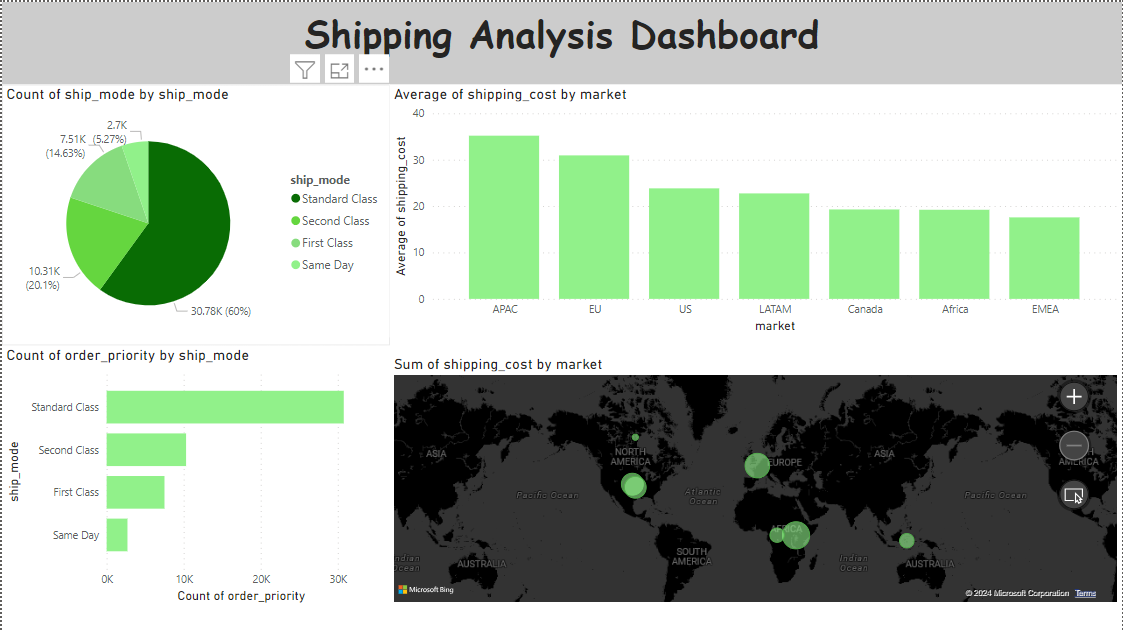

This screenshot's page, from the dashboard's own definition file:
{"tool":"powerbi","page":{"name":"Shipping Analysis Dashboard","canvas":[1280,720],"ordinal":2},"visuals":[{"type":"textbox","box":[0,0,1280,94.3],"z":0},{"type":"pieChart","fields":{"Y":["CountNonNull(SuperStoreOrders.ship_mode)"],"Category":["SuperStoreOrders.ship_mode"]},"box":[0,94.3,442.9,298.6],"z":1000},{"type":"barChart","fields":{"Category":["SuperStoreOrders.ship_mode"],"Y":["CountNonNull(SuperStoreOrders.order_priority)"]},"box":[0,393,443,299],"z":2000},{"type":"map","fields":{"Category":["SuperStoreOrders.market"],"Size":["Sum(SuperStoreOrders.shipping_cost)"]},"box":[442.9,402.9,837.1,288.6],"z":3000},{"type":"clusteredColumnChart","fields":{"Y":["Avg(SuperStoreOrders.shipping_cost)"],"Category":["SuperStoreOrders.market"]},"box":[443,94,837,289],"z":4000}]}

Visuals, with their boxes in screenshot pixels (x1, y1, x2, y2), scaled from the page's 1280x720 canvas onto the 1123x631 screenshot:
textbox: box(0, 0, 1122, 83)
pieChart - CountNonNull(SuperStoreOrders.ship_mode) x SuperStoreOrders.ship_mode: box(0, 83, 389, 344)
barChart - SuperStoreOrders.ship_mode x CountNonNull(SuperStoreOrders.order_priority): box(0, 344, 389, 606)
map - SuperStoreOrders.market x Sum(SuperStoreOrders.shipping_cost): box(389, 353, 1122, 606)
clusteredColumnChart - Avg(SuperStoreOrders.shipping_cost) x SuperStoreOrders.market: box(389, 82, 1122, 336)
